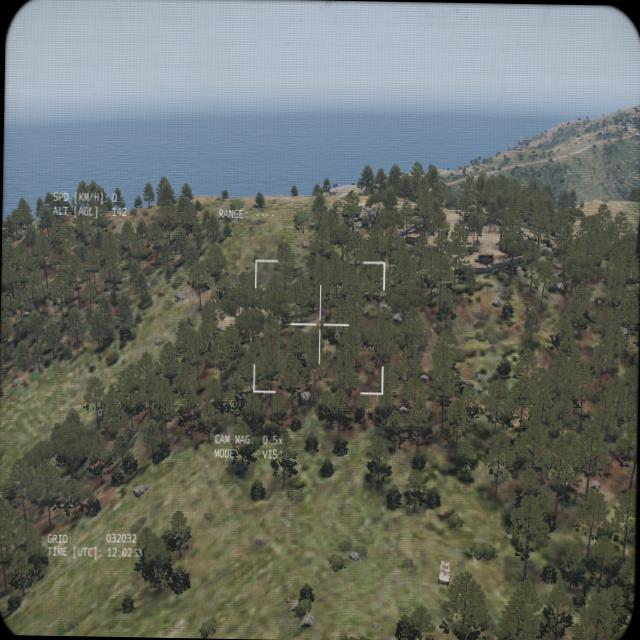apc: (436, 558, 451, 586)
